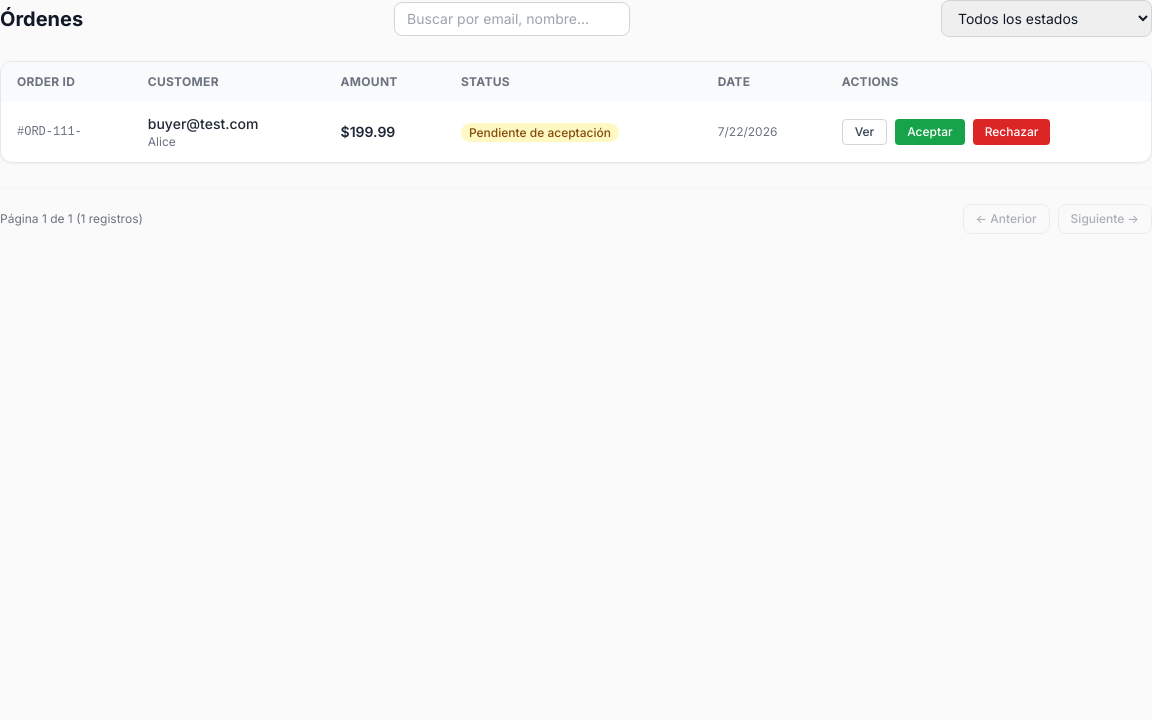
it: OrdersPage › opens reject modal on Rechazar click
This screenshot has width=1152, height=720.
Click the button with aria-label "reject order".
click(1012, 132)  # box top-left (973, 119), bottom-right (1050, 145)
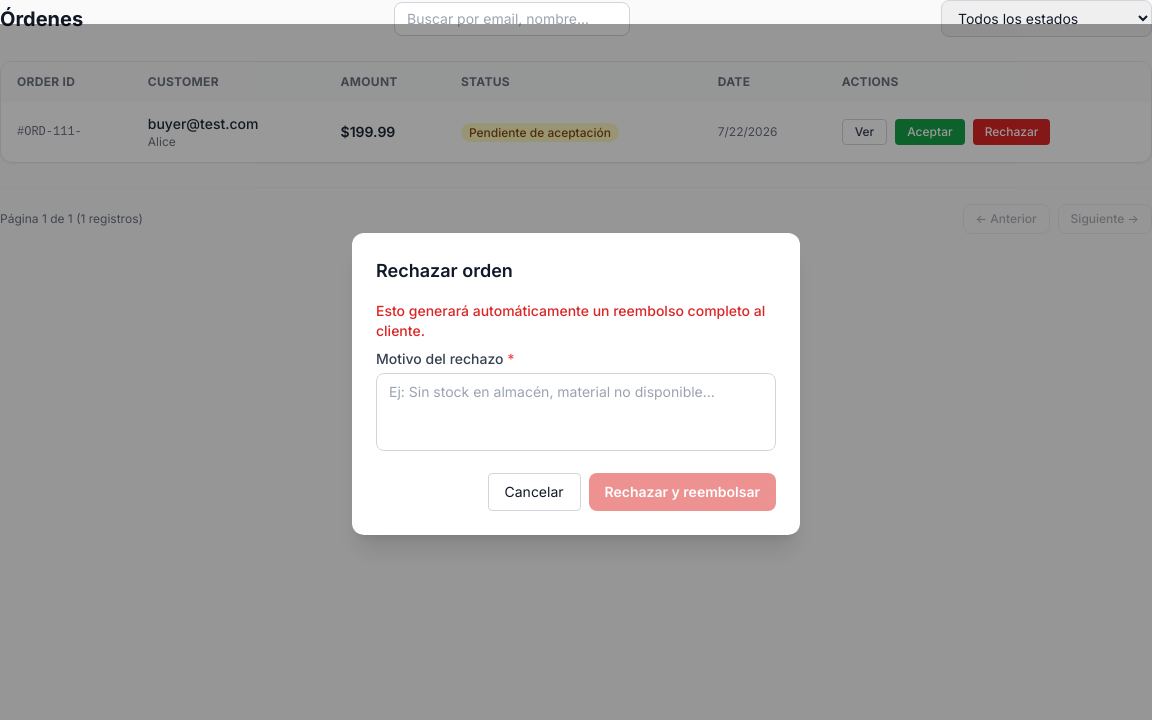
Expected: the dialog "Rechazar orden" is shown, top-left (352, 233), bottom-right (800, 535)
